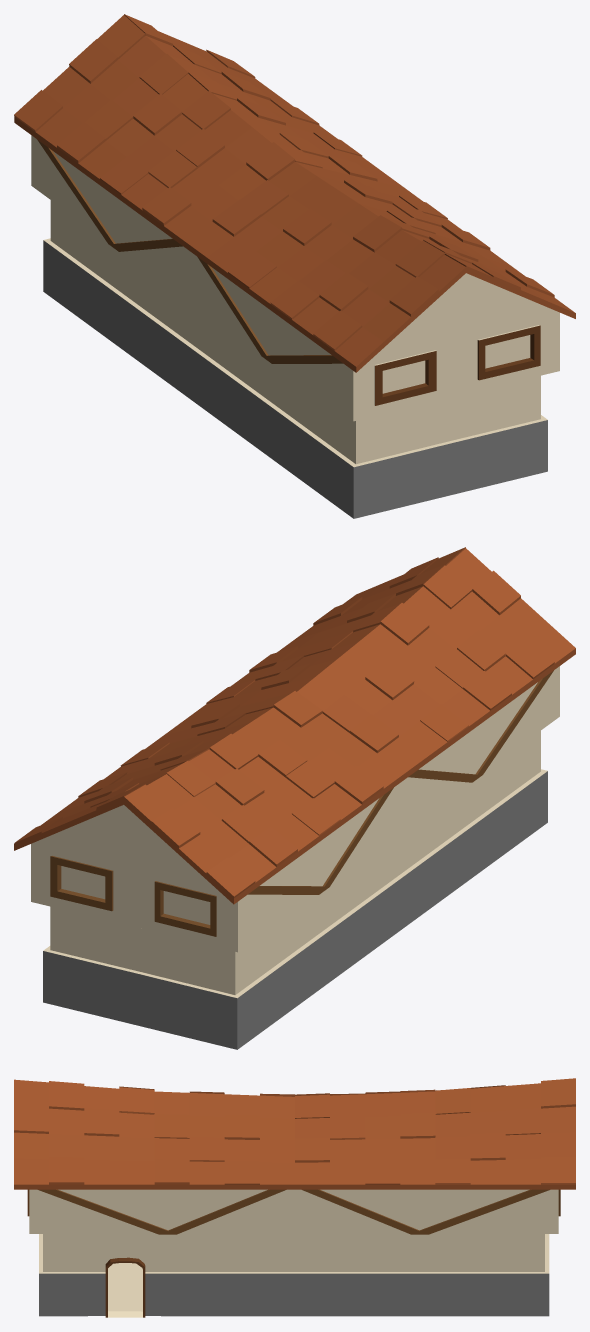
The model's file is fogado.fbx.
3 renders of one model, top to bottom at view 1: azimuth 30°, elevation 25°; view 2: azimuth 150°, elevation 25°; view 3: azimuth 270°, elevation 25°, orthographic. The views are drawn at different scales.
Visible parts, largest first — view 1: Fogado, FogadoTeto; view 2: Fogado, FogadoTeto; view 3: Fogado, FogadoTeto.
Boxes of the visible parts, x1,y1,x2,y2 form: Fogado: (31,135,559,518); FogadoTeto: (14,14,575,372); Fogado: (31,666,559,1049); FogadoTeto: (14,547,575,904); Fogado: (27,1189,560,1317); FogadoTeto: (14,1078,575,1189).
Bounding box in the file's own units: 471 × 495 × 1267.
